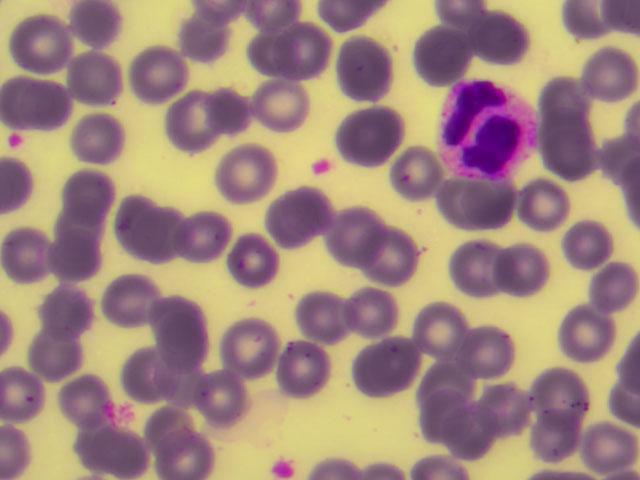Platelets: (273, 463, 298, 480), (312, 160, 332, 176), (6, 134, 23, 150)
RBC: (333, 39, 397, 100), (334, 107, 403, 163), (215, 145, 278, 202), (247, 78, 310, 135), (67, 50, 130, 107), (365, 227, 428, 284), (324, 204, 387, 261), (221, 317, 277, 379), (169, 91, 223, 154), (131, 43, 188, 102), (582, 46, 640, 103), (413, 27, 470, 84), (106, 270, 163, 327), (193, 370, 250, 427), (275, 341, 332, 398), (530, 366, 587, 423), (415, 384, 472, 441), (413, 302, 470, 359), (494, 238, 551, 295), (448, 237, 505, 294), (536, 72, 593, 129), (541, 120, 598, 177), (558, 301, 615, 358), (9, 17, 66, 74), (121, 347, 178, 404), (65, 1, 122, 57), (1, 226, 57, 283), (1, 369, 57, 426), (57, 371, 119, 422), (265, 187, 315, 250), (457, 171, 512, 228), (512, 181, 572, 233), (467, 12, 527, 64), (133, 207, 192, 259), (101, 421, 152, 480), (278, 24, 332, 79), (435, 174, 490, 227), (560, 215, 613, 270), (51, 227, 101, 284), (353, 344, 405, 398), (528, 407, 579, 461), (156, 430, 211, 480), (392, 144, 439, 202), (579, 421, 637, 468), (18, 78, 71, 129), (69, 110, 123, 160), (443, 406, 497, 456), (466, 322, 515, 377), (587, 261, 639, 312), (37, 285, 91, 333), (62, 169, 114, 218), (175, 212, 231, 257), (1, 68, 42, 129), (481, 386, 531, 436), (422, 352, 475, 399), (162, 319, 208, 371), (594, 134, 640, 186), (297, 293, 350, 338), (29, 328, 80, 374), (231, 232, 276, 284), (374, 334, 419, 386), (183, 12, 228, 64), (155, 290, 203, 338), (347, 286, 396, 333), (116, 191, 157, 243), (562, 1, 610, 44), (1, 420, 35, 480), (206, 87, 248, 134), (1, 155, 34, 214), (244, 31, 290, 73), (295, 185, 336, 232), (50, 209, 102, 246), (594, 1, 640, 40), (415, 450, 473, 480), (316, 1, 371, 32), (610, 369, 640, 424), (69, 421, 104, 467), (1, 298, 25, 364), (425, 1, 482, 27), (243, 1, 299, 27), (618, 159, 640, 225), (356, 455, 409, 480), (194, 1, 243, 28), (617, 333, 640, 387), (306, 455, 355, 480), (530, 464, 594, 480), (620, 95, 640, 141), (597, 467, 640, 478), (358, 1, 391, 13)
WBC: (438, 80, 539, 182)
